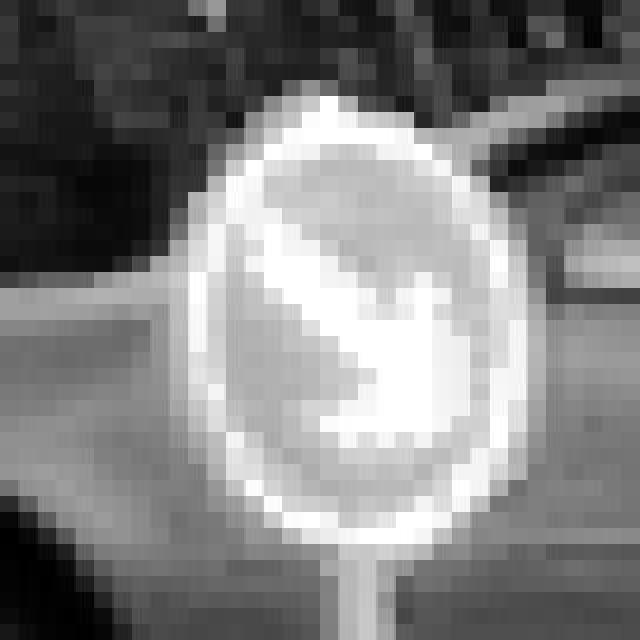keep right: (132, 80, 508, 560)
